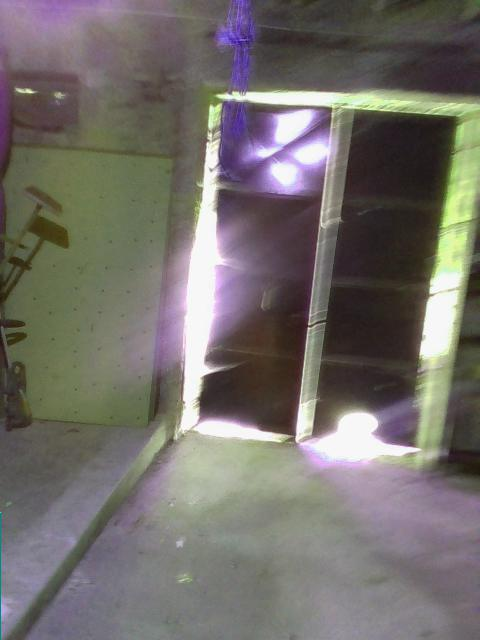closed_door: (170, 87, 479, 460)
